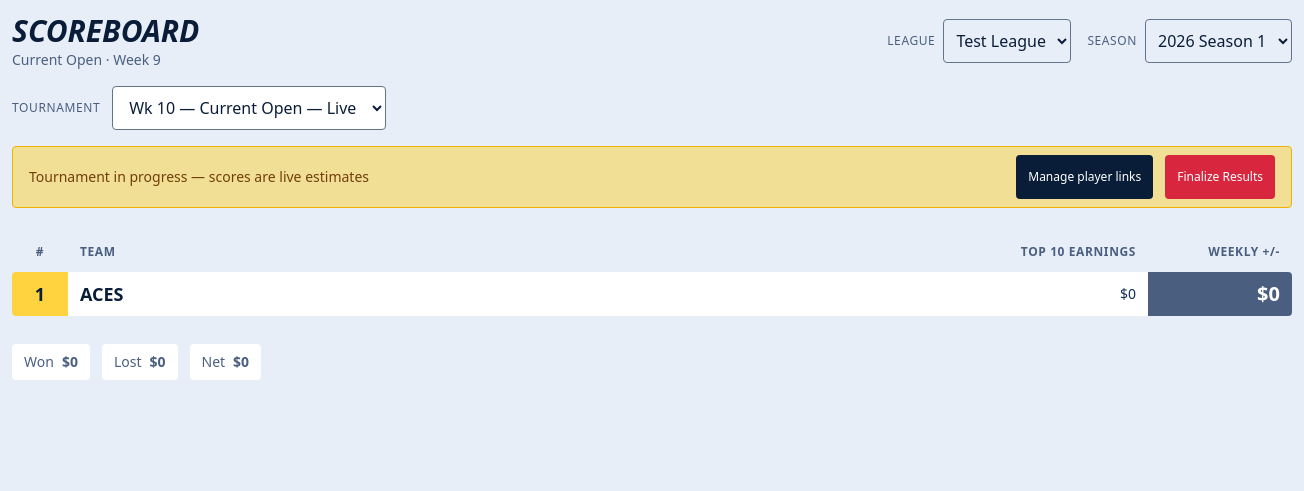
Test case: ScoreboardPage › shows the warnings the server returned after an admin finalizes a tournament
expect the text "Possible duplicate of a rostered golfer" is not shown: met
Click the button "Finalize Results": (1220, 176) [1165,154,1275,198]
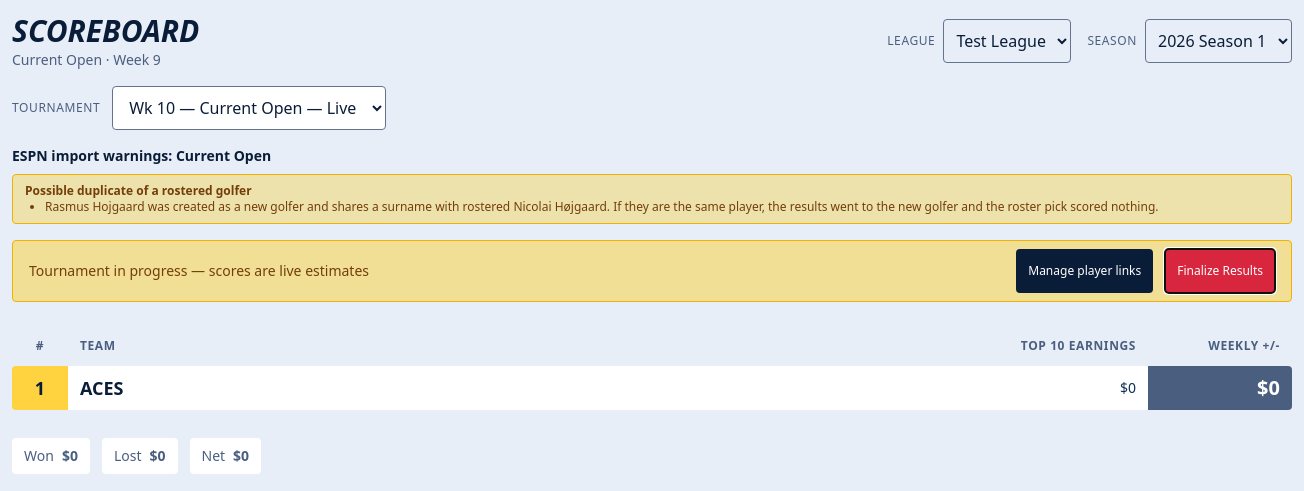
expect the text "Possible duplicate of a rostered golfer" is shown: met, box [25,182,252,198]
